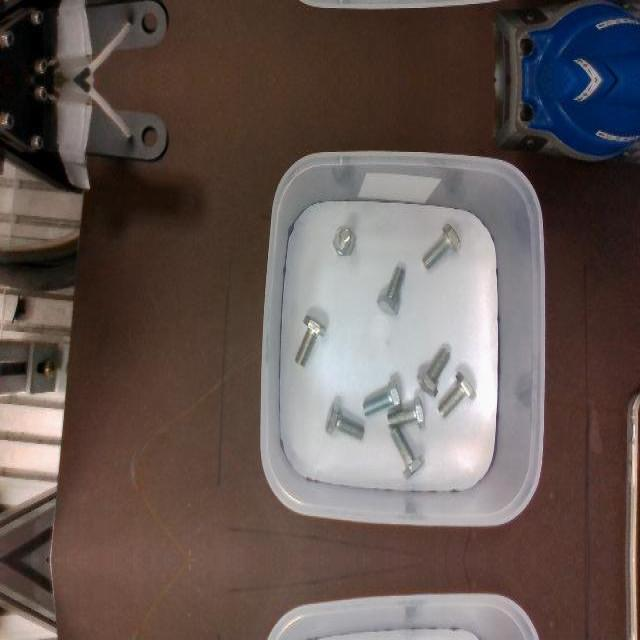screw: (437, 371, 476, 419), (390, 426, 425, 478), (422, 222, 461, 268), (416, 347, 450, 397), (295, 314, 326, 366), (325, 401, 364, 439), (376, 266, 405, 316), (362, 380, 402, 416), (387, 395, 425, 429), (332, 227, 355, 257)
